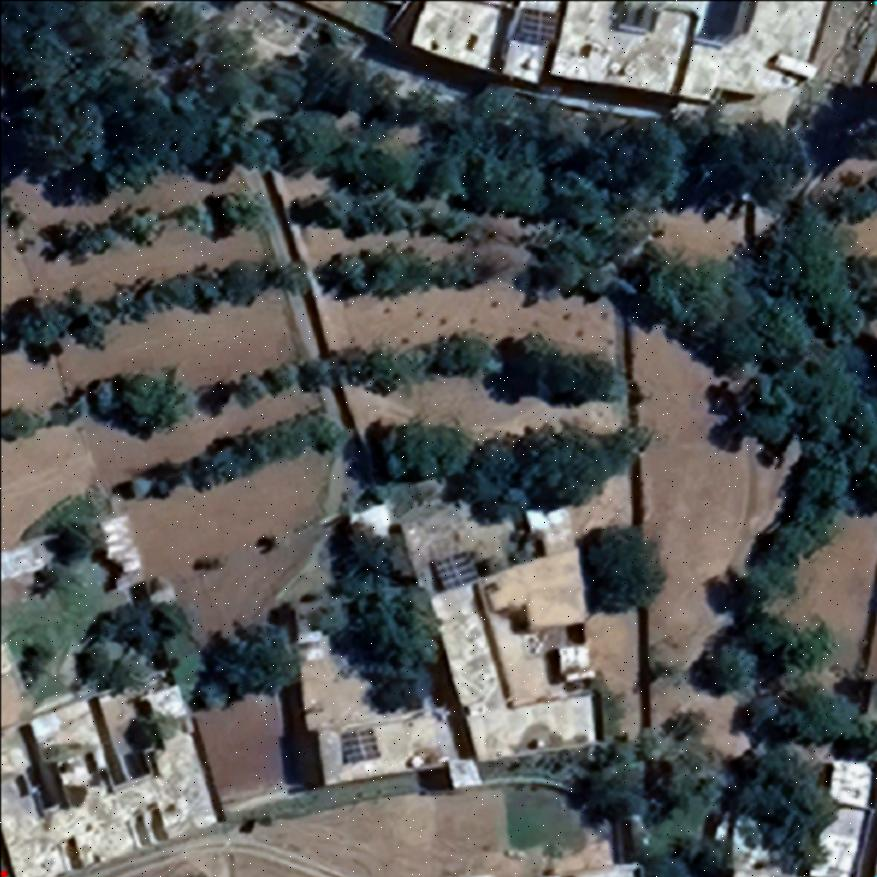Solarpanel: (433, 552, 478, 592), (338, 726, 380, 766), (520, 7, 558, 45)
